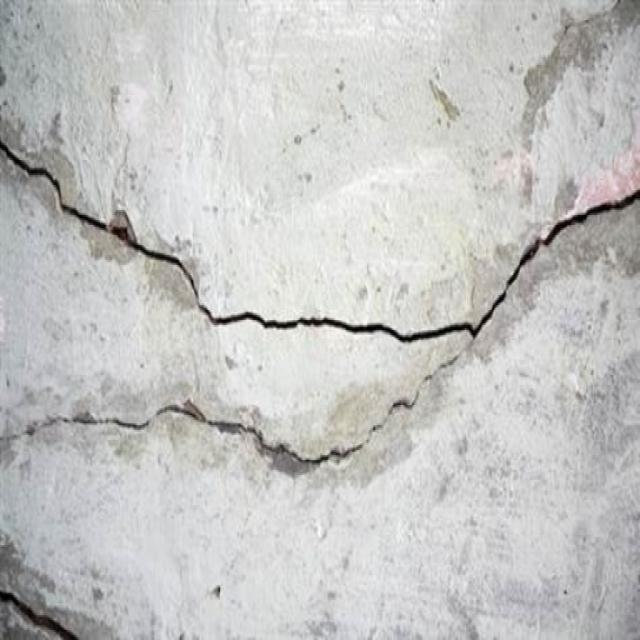Diagonal: (0, 129, 244, 339)
Radial: (250, 191, 640, 483)
Transverse: (0, 399, 242, 458)
